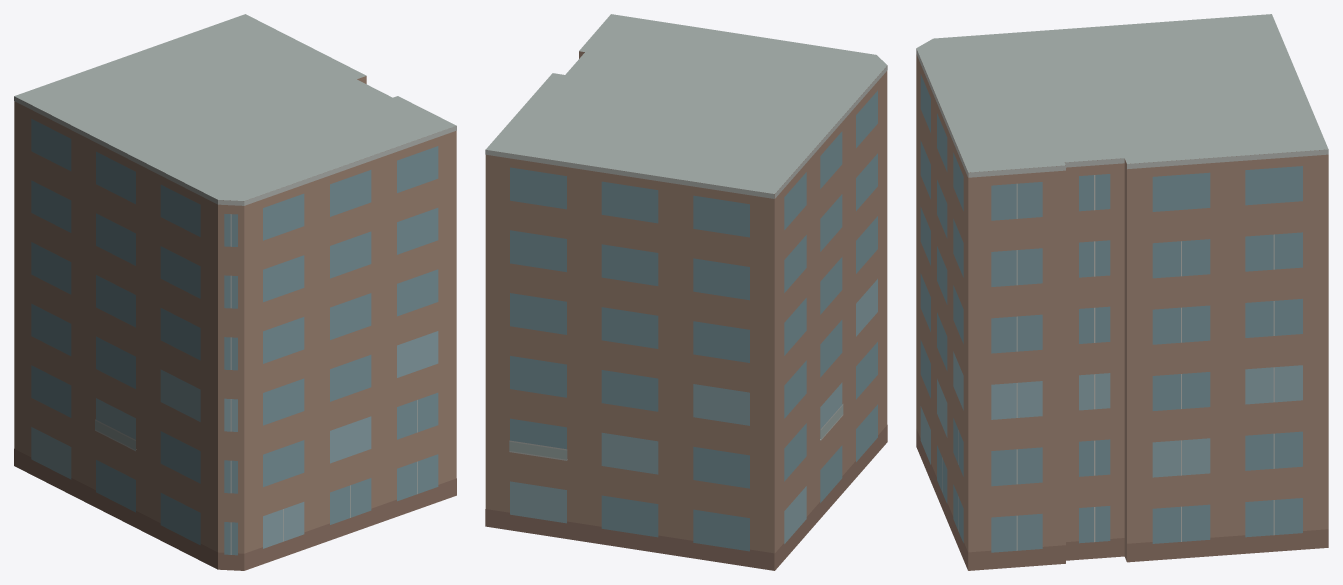
File: survey-upis-32574845.glb
3 views of the same model, side by side, from view 1: azimuth 30°, elevation 25°; view 2: azimuth 150°, elevation 25°; view 3: azimuth 270°, elevation 25° (orthographic). The views are drawn at different scales.
Visible parts, largest first — view 1: survey-upis-32574845.tmp; view 2: survey-upis-32574845.tmp; view 3: survey-upis-32574845.tmp.
Part boxes in pixels (left/top/right/bottom): survey-upis-32574845.tmp: left=14, top=14, right=456, bottom=570; survey-upis-32574845.tmp: left=485, top=14, right=887, bottom=570; survey-upis-32574845.tmp: left=916, top=14, right=1328, bottom=570.
Bounding box in the file's own units: 15.98 × 18.7 × 17.56.
